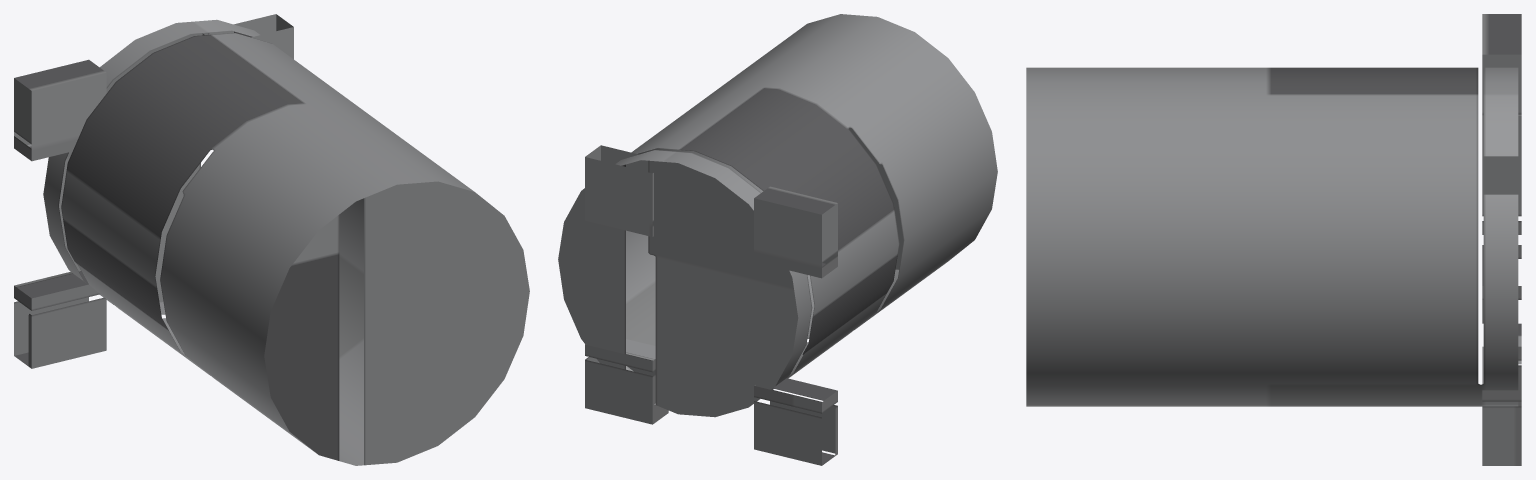
The picture shows the model from 3 angles, left to right: view 1: azimuth 30°, elevation 25°; view 2: azimuth 150°, elevation 25°; view 3: azimuth 270°, elevation 25°; orthographic projection. The views are drawn at different scales.
Bounding box in the file's own units: 0.7925 × 0.7611 × 1.04.
